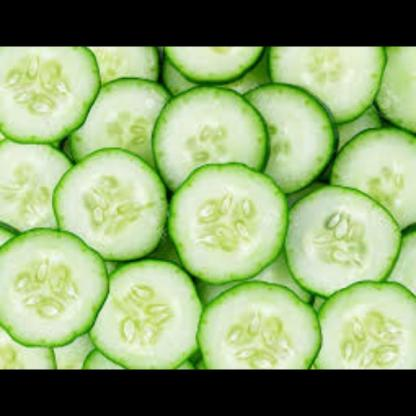cucumber: (10, 47, 416, 370)
